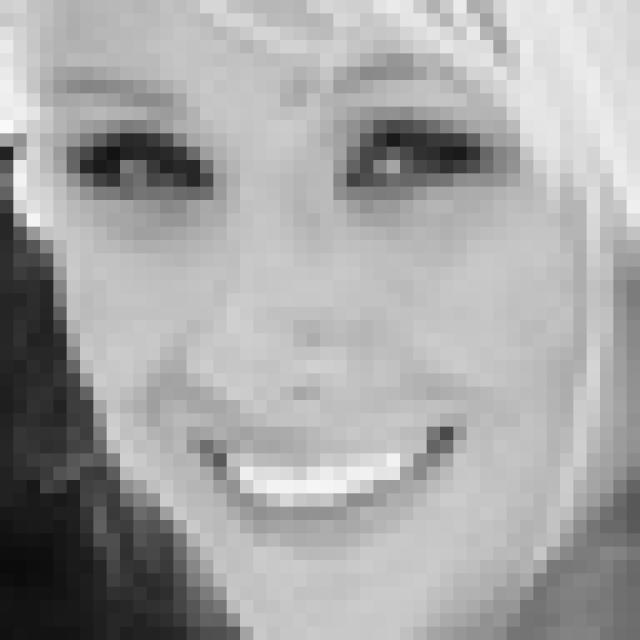happy: (45, 56, 519, 564)
